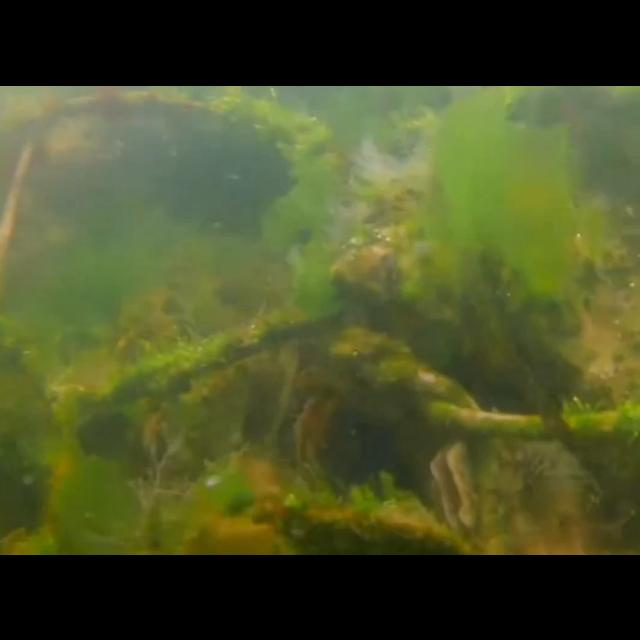Oyster-Closed: (262, 491, 473, 554)
Oyster-Open: (268, 342, 340, 488), (425, 438, 485, 532)
